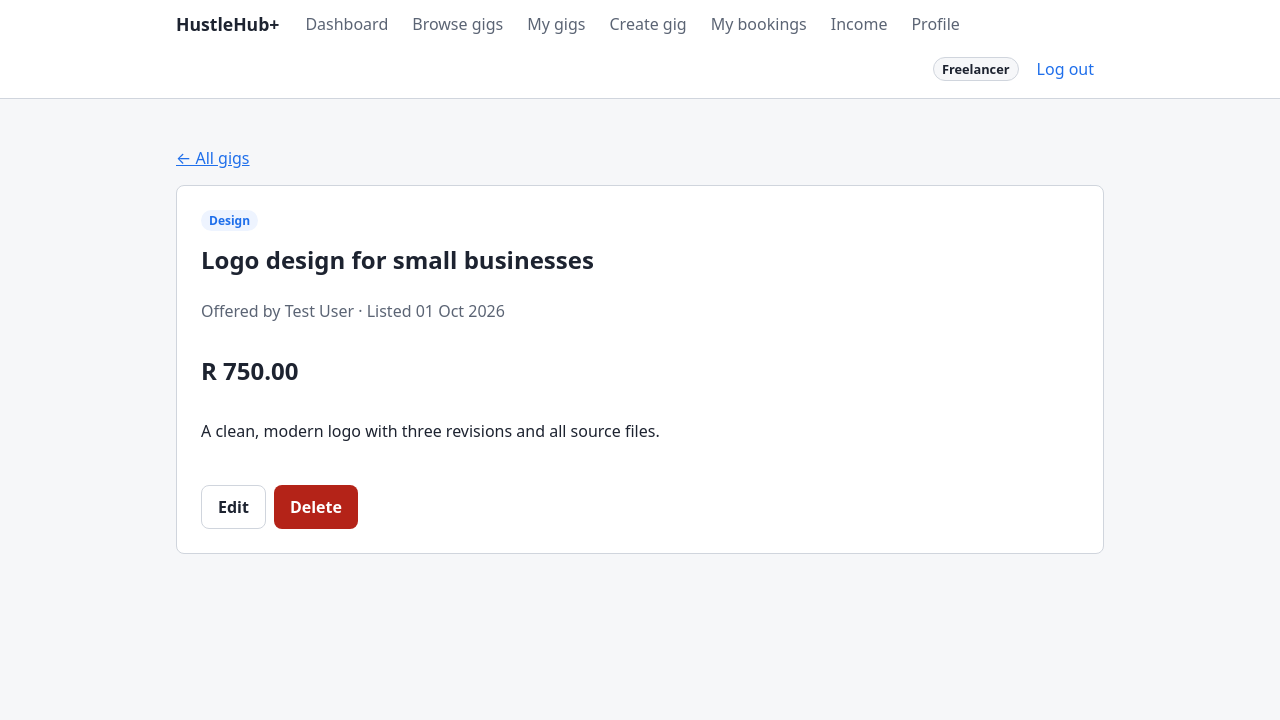
Test: GigDetailPage › the owner can delete their gig after confirming
Click the button "Delete": click(316, 507) [274, 485, 358, 529]
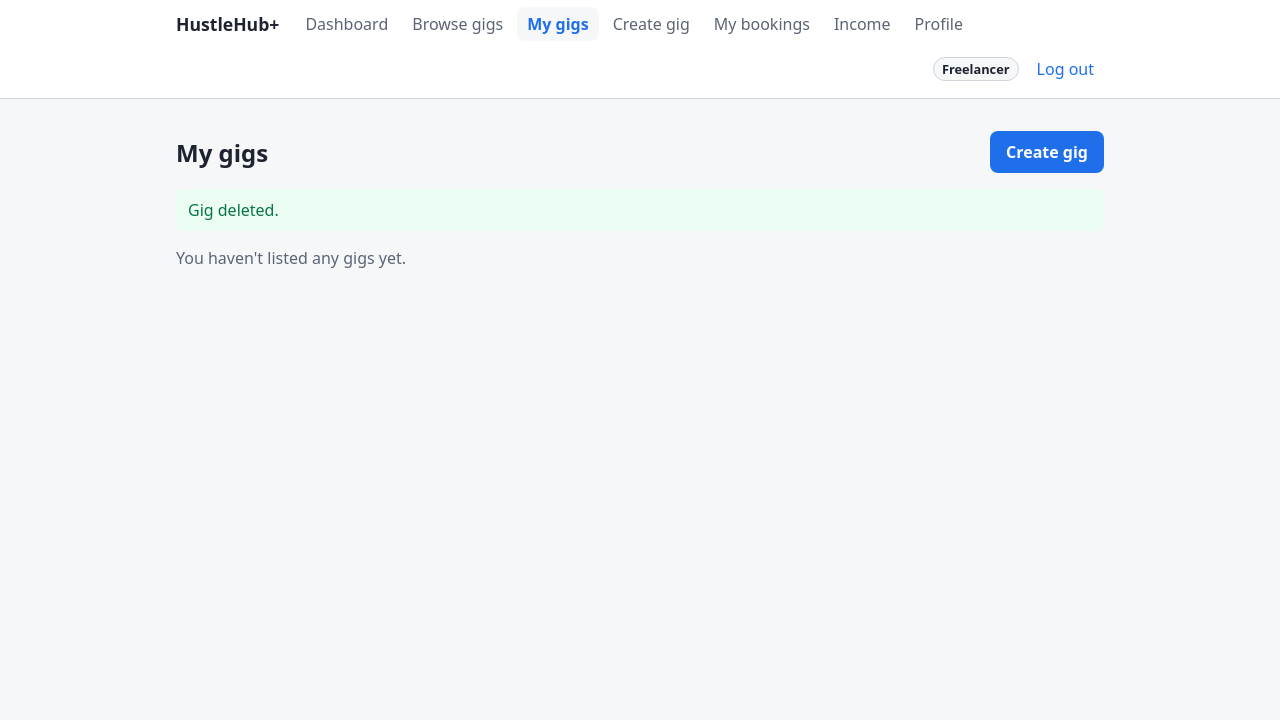
Result: the heading "My gigs" is shown at [176, 136, 268, 168]
Result: the message reads "Gig deleted." at [188, 199, 279, 221]
